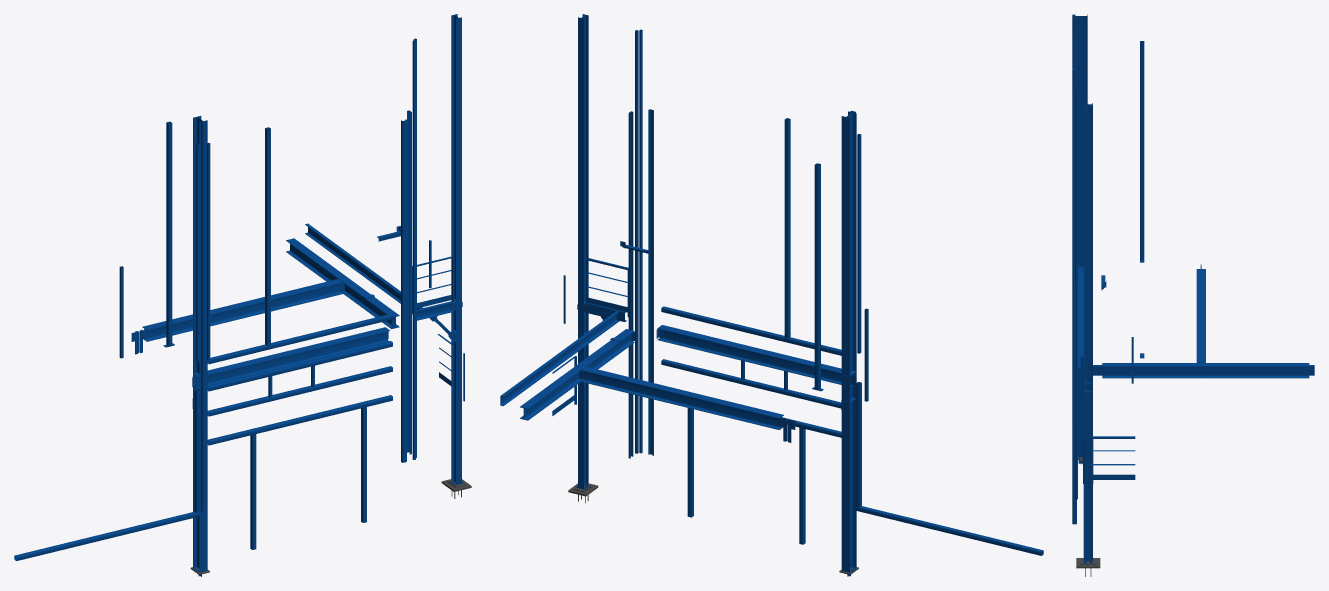
The model's file is GCC-AAV-13220-30.nwd(131).fbx.
The picture shows the model from 3 angles, left to right: view 1: azimuth 30°, elevation 25°; view 2: azimuth 150°, elevation 25°; view 3: azimuth 270°, elevation 25°; orthographic projection. The views are drawn at different scales.
Visible parts, largest first — view 1: Группа фасетов (×7), GENSEC 1 of SBFRAMEWORK /13220-BD-001-212-5206/CS/KM2/K/ROW_, GENSEC 2 of SBFRAMEWORK /13220-BD-001-212-5206/CS/KM2/K/ROW_, GENSEC 297 of FRMWORK /GCC-AFT-DDD-13220-11-5206-KM_KM2-UNPL, GENSEC 2 of SBFRAMEWORK /13220-BD-001-211-5206/CS/KM1/K/ROW_, GENSEC 74 of SBFRAMEWORK /13220-BD-001-212-5206/CS/KM2/СТ/+8, GENSEC 1 of SBFRAMEWORK /13220-BD-001-212-5206/CS/KM2/B/+3.4, GENSEC 58 of SBFRAMEWORK /13220-BD-001-212-5206/CS/KM2/B/+8., GENSEC 1 of SBFRAMEWORK /13220-BD-001-212-5206/CS/KM2/B/+1.4, GENSEC 9 of SBFRAMEWORK /13220-BD-001-212-5206/CS/KM2/B/+5.3, GENSEC 3 of SBFRAMEWORK /13220-BD-001-211-5206/CS/KM1/K/ROW_, GENSEC 59 of SBFRAMEWORK /13220-BD-001-212-5206/CS/KM2/B/+8. (+6 smaller); view 2: Группа фасетов (×6), GENSEC 3 of SBFRAMEWORK /13220-BD-001-211-5206/CS/KM1/K/ROW_, GENSEC 1 of SBFRAMEWORK /13220-BD-001-212-5206/CS/KM2/K/ROW_, GENSEC 2 of SBFRAMEWORK /13220-BD-001-212-5206/CS/KM2/K/ROW_, GENSEC 297 of FRMWORK /GCC-AFT-DDD-13220-11-5206-KM_KM2-UNPL, GENSEC 298 of FRMWORK /GCC-AFT-DDD-13220-11-5206-KM_KM2-UNPL, GENSEC 9 of SBFRAMEWORK /13220-BD-001-212-5206/CS/KM2/B/+5.3, GENSEC 74 of SBFRAMEWORK /13220-BD-001-212-5206/CS/KM2/СТ/+8, GENSEC 1 of SBFRAMEWORK /13220-BD-001-212-5206/CS/KM2/B/+1.4, GENSEC 59 of SBFRAMEWORK /13220-BD-001-212-5206/CS/KM2/B/+8., GENSEC 11 of SBFRAMEWORK /13220-BD-001-212-5206/CS/KM2/B/+3., GENSEC 23 of SBFRAMEWORK /13220-BD-001-212-5206/CS/KM2/СТ/+8 (+3 smaller); view 3: Группа фасетов (×6), GENSEC 9 of SBFRAMEWORK /13220-BD-001-212-5206/CS/KM2/B/+5.3, GENSEC 3 of SBFRAMEWORK /13220-BD-001-211-5206/CS/KM1/K/ROW_, GENSEC 298 of FRMWORK /GCC-AFT-DDD-13220-11-5206-KM_KM2-UNPL, GENSEC 297 of FRMWORK /GCC-AFT-DDD-13220-11-5206-KM_KM2-UNPL.
Boxes of the visible parts, x1,y1,x2,y2 form: Группа фасетов (×7): (142, 14, 461, 572); GENSEC 1 of SBFRAMEWORK /13220-BD-001-212-5206/CS/KM2/K/ROW_: (401, 119, 406, 462); GENSEC 2 of SBFRAMEWORK /13220-BD-001-212-5206/CS/KM2/K/ROW_: (407, 110, 411, 454); GENSEC 297 of FRMWORK /GCC-AFT-DDD-13220-11-5206-KM_KM2-UNPL: (412, 40, 415, 459); GENSEC 2 of SBFRAMEWORK /13220-BD-001-211-5206/CS/KM1/K/ROW_: (201, 121, 206, 340); GENSEC 74 of SBFRAMEWORK /13220-BD-001-212-5206/CS/KM2/СТ/+8: (265, 127, 270, 345); GENSEC 1 of SBFRAMEWORK /13220-BD-001-212-5206/CS/KM2/B/+3.4: (207, 395, 392, 445); GENSEC 58 of SBFRAMEWORK /13220-BD-001-212-5206/CS/KM2/B/+8.: (207, 341, 392, 391); GENSEC 1 of SBFRAMEWORK /13220-BD-001-212-5206/CS/KM2/B/+1.4: (14, 511, 200, 560); GENSEC 9 of SBFRAMEWORK /13220-BD-001-212-5206/CS/KM2/B/+5.3: (305, 223, 422, 309); GENSEC 3 of SBFRAMEWORK /13220-BD-001-211-5206/CS/KM1/K/ROW_: (193, 116, 207, 339); GENSEC 59 of SBFRAMEWORK /13220-BD-001-212-5206/CS/KM2/B/+8.: (207, 366, 392, 416); Группа фасетов (×6): (520, 14, 856, 572); GENSEC 3 of SBFRAMEWORK /13220-BD-001-211-5206/CS/KM1/K/ROW_: (841, 111, 856, 337); GENSEC 1 of SBFRAMEWORK /13220-BD-001-212-5206/CS/KM2/K/ROW_: (648, 109, 653, 455); GENSEC 2 of SBFRAMEWORK /13220-BD-001-212-5206/CS/KM2/K/ROW_: (628, 111, 633, 458); GENSEC 297 of FRMWORK /GCC-AFT-DDD-13220-11-5206-KM_KM2-UNPL: (639, 29, 642, 453); GENSEC 298 of FRMWORK /GCC-AFT-DDD-13220-11-5206-KM_KM2-UNPL: (635, 30, 638, 453); GENSEC 9 of SBFRAMEWORK /13220-BD-001-212-5206/CS/KM2/B/+5.3: (500, 311, 619, 406); GENSEC 74 of SBFRAMEWORK /13220-BD-001-212-5206/CS/KM2/СТ/+8: (784, 118, 790, 338); GENSEC 1 of SBFRAMEWORK /13220-BD-001-212-5206/CS/KM2/B/+1.4: (855, 506, 1043, 555); GENSEC 59 of SBFRAMEWORK /13220-BD-001-212-5206/CS/KM2/B/+8.: (661, 359, 841, 408); GENSEC 11 of SBFRAMEWORK /13220-BD-001-212-5206/CS/KM2/B/+3.: (661, 306, 841, 355); GENSEC 23 of SBFRAMEWORK /13220-BD-001-212-5206/CS/KM2/СТ/+8: (857, 134, 861, 353); Группа фасетов (×6): (1078, 41, 1309, 562); GENSEC 9 of SBFRAMEWORK /13220-BD-001-212-5206/CS/KM2/B/+5.3: (1093, 365, 1314, 375); GENSEC 3 of SBFRAMEWORK /13220-BD-001-211-5206/CS/KM1/K/ROW_: (1075, 14, 1087, 229); GENSEC 298 of FRMWORK /GCC-AFT-DDD-13220-11-5206-KM_KM2-UNPL: (1075, 88, 1077, 499); GENSEC 297 of FRMWORK /GCC-AFT-DDD-13220-11-5206-KM_KM2-UNPL: (1072, 87, 1074, 497).
Bounding box in the file's own units: 540 × 557 × 253.
